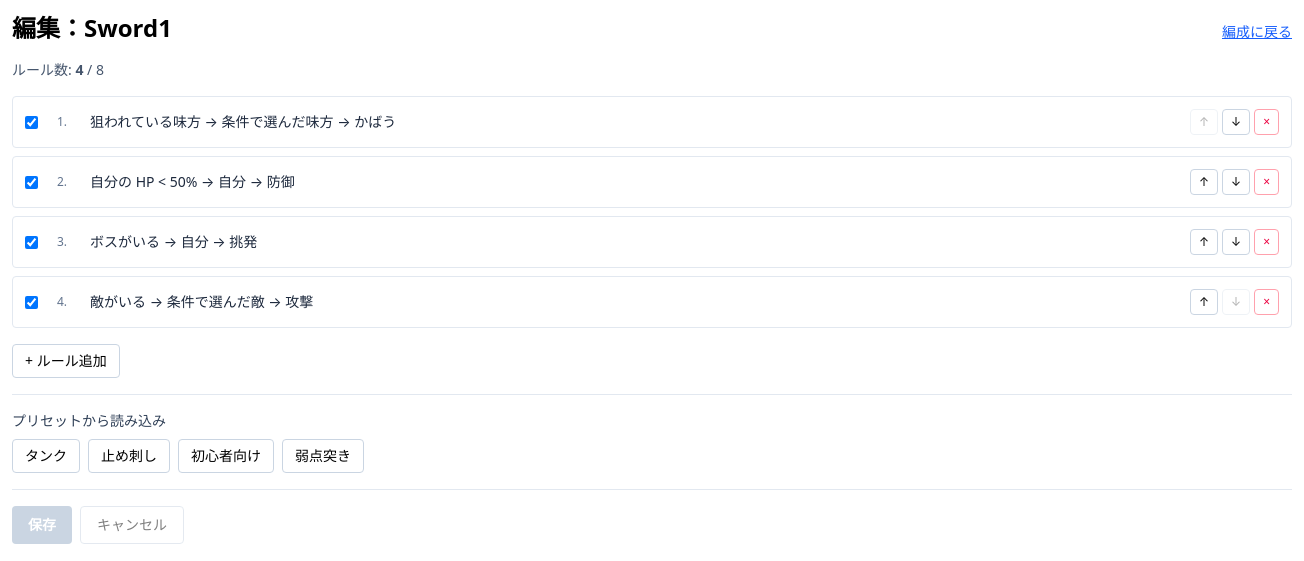
Test case: GambitEditorScreen のルール操作（下書きモード） › 並べ替え（↑）：先頭は disabled、2 番目以降は動く
Check: the button named "上へ" is disabled, box [1190,109,1218,135]
Click the button named "上へ" at (1204, 182), box [1190,169,1218,195]
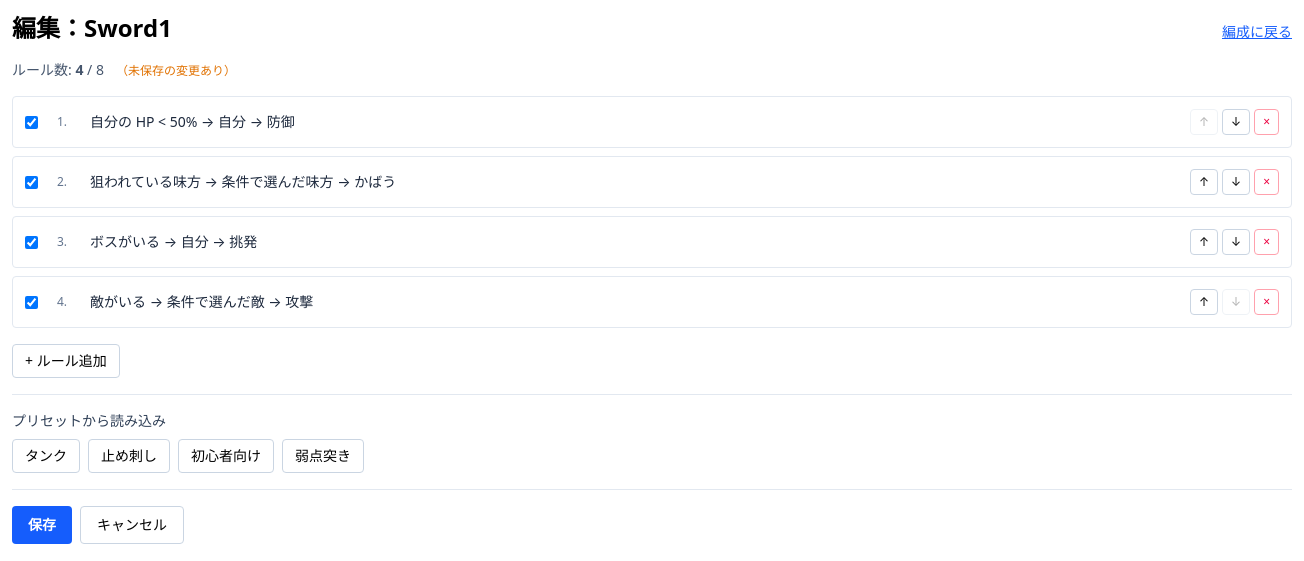
Check: the list item "1. 自分の HP < 50% → 自分 → 防御 ↑ ↓ ×" is shown, box [12,96,1292,148]
Check: the text "（未保存の変更あり）" is shown, box [116,62,236,79]
